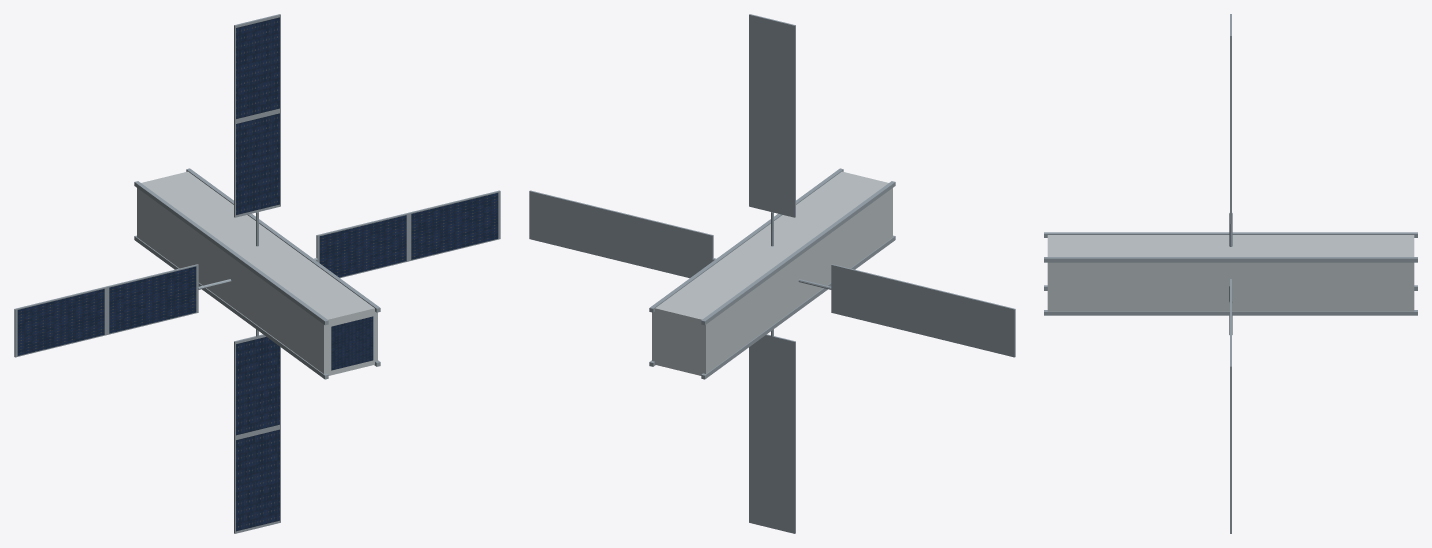
The model's file is ref-cubesat-1x6u-42711.glb.
The picture shows the model from 3 angles, left to right: view 1: azimuth 30°, elevation 25°; view 2: azimuth 150°, elevation 25°; view 3: azimuth 270°, elevation 25°; orthographic projection. The views are drawn at different scales.
Visible parts, largest first — view 1: Photovoltaic laminates (×8), Spacecraft body, Dispenser rail (×3), Array frame (×5), Body-mounted cells; view 2: Array frame (×8), Spacecraft body, Dispenser rail (×3); view 3: Spacecraft body, Dispenser rail (×3).
Part boxes in pixels (x1=…): Photovoltaic laminates (×8): x1=17, y1=17, x2=498, y2=531; Spacecraft body: x1=137, y1=171, x2=377, y2=375; Dispenser rail (×3): x1=134, y1=168, x2=380, y2=379; Array frame (×5): x1=14, y1=14, x2=500, y2=357; Body-mounted cells: x1=331, y1=316, x2=373, y2=370; Array frame (×8): x1=529, y1=14, x2=1015, y2=533; Spacecraft body: x1=652, y1=171, x2=892, y2=375; Dispenser rail (×3): x1=649, y1=168, x2=895, y2=379; Spacecraft body: x1=1047, y1=235, x2=1414, y2=311; Dispenser rail (×3): x1=1044, y1=232, x2=1417, y2=315.
Bounding box in the file's own units: 0.9 × 0.9 × 0.612.
3 materials, 1 textured.
